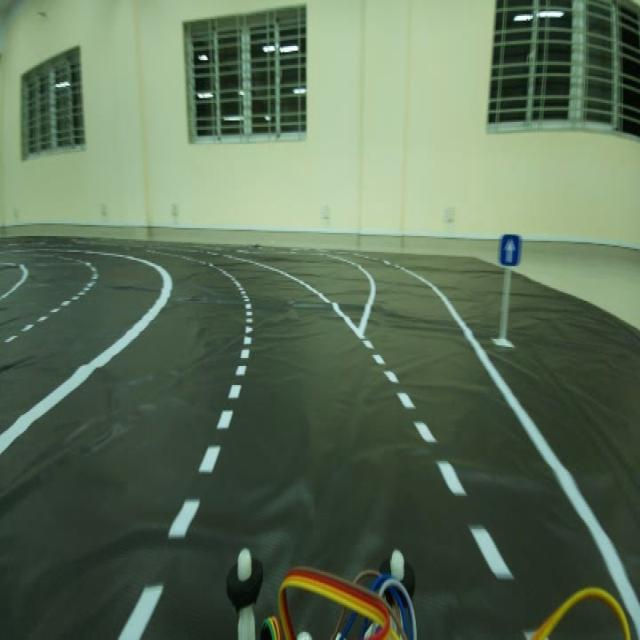onewayroad: (493, 218, 528, 286)
